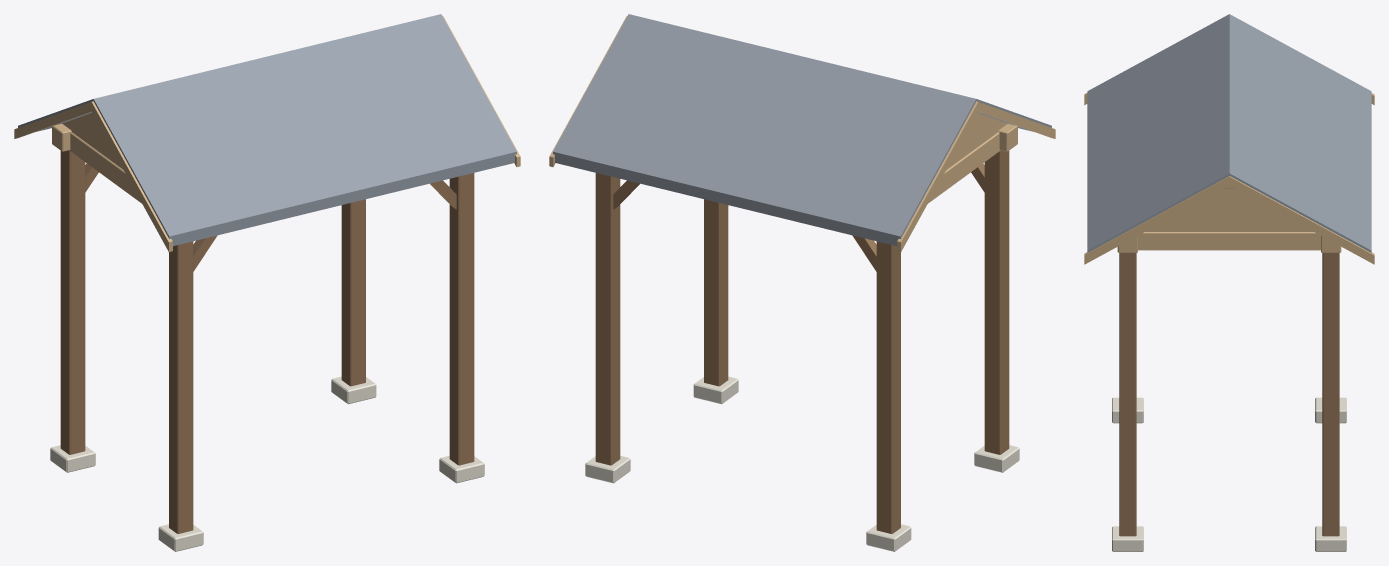
Rendered from wedding-and-chapel-kit-chapel-porch-canopy-7c8a79e3__39382.glb.
3 renders of one model, left to right at view 1: azimuth 30°, elevation 25°; view 2: azimuth 150°, elevation 25°; view 3: azimuth 270°, elevation 25°, orthographic. The views are drawn at different scales.
Parts seen in each view (by area): view 1: chapel-porch-canopy; view 2: chapel-porch-canopy; view 3: chapel-porch-canopy.
Boxes of the visible parts, x1=… form: chapel-porch-canopy: x1=14, y1=14, x2=520, y2=551; chapel-porch-canopy: x1=549, y1=14, x2=1055, y2=551; chapel-porch-canopy: x1=1084, y1=14, x2=1374, y2=551.
Bounding box in the file's own units: 2.63 × 2.95 × 2.
